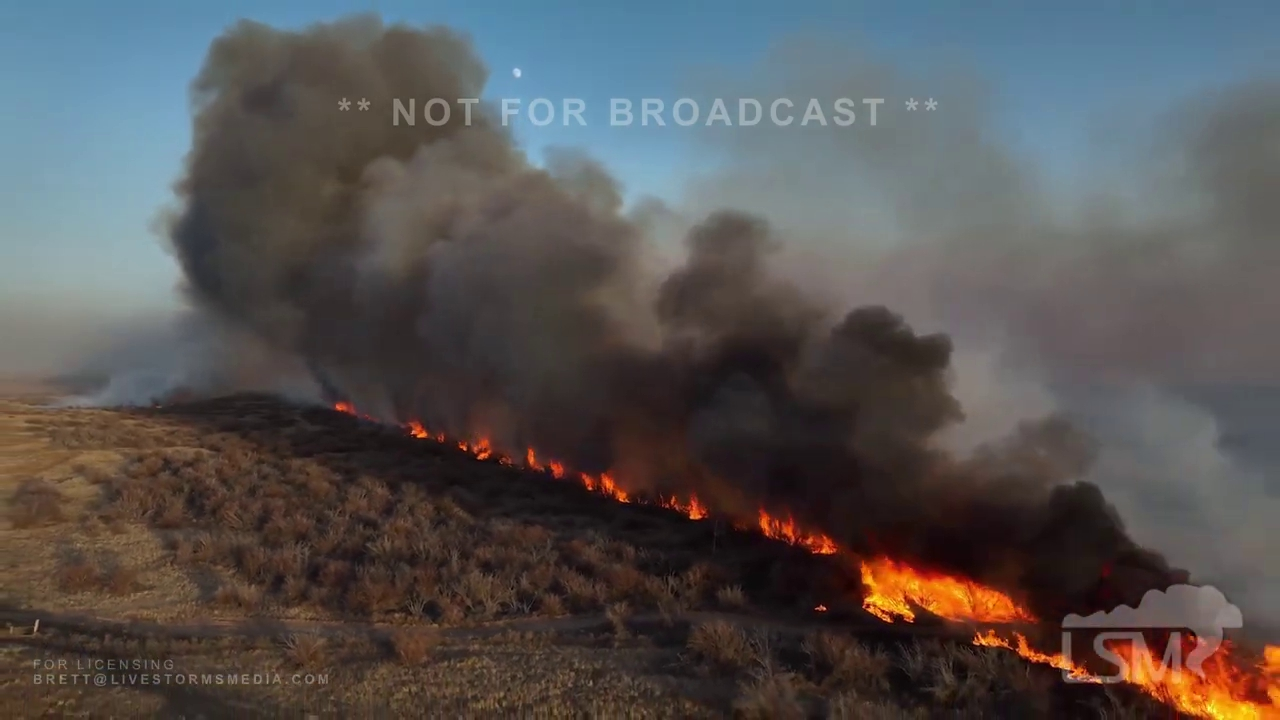forest_fire: (403, 420, 634, 501), (1112, 643, 1279, 718), (858, 556, 1039, 625), (972, 626, 1103, 680), (754, 508, 840, 553), (656, 495, 707, 518), (334, 402, 377, 420), (815, 605, 824, 609), (736, 523, 744, 527)
